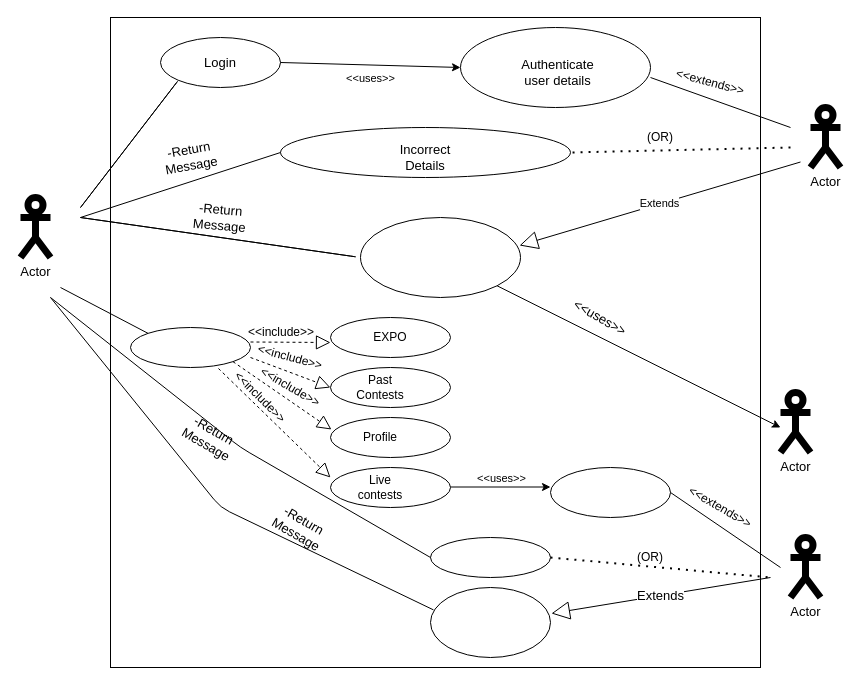
The diagram is 861 pixels wide and 685 high, and some of its shapes have lost their labels. Here are the shapes that lost their labels. From the top down, the centre of each, then its label:
At (x=440, y=257): "Access Granted".
At (x=190, y=347): "HOME SCREEN".
At (x=610, y=492): "Is Reviewer".
At (x=490, y=557): "view and vote".
At (x=490, y=622): "view,Review as per rubrics, comment".
